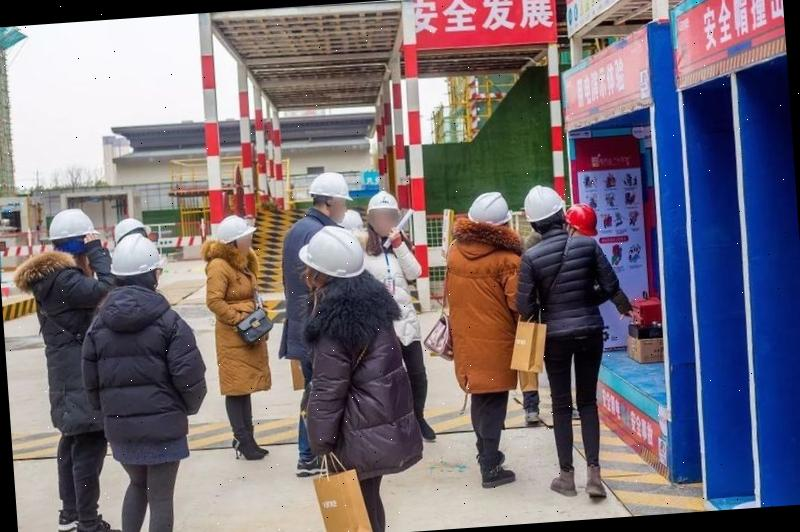helmet: (296, 221, 370, 284), (468, 190, 514, 228), (48, 208, 97, 242), (520, 185, 562, 223), (212, 213, 258, 244), (362, 189, 401, 222), (309, 172, 351, 201), (110, 216, 153, 243), (565, 203, 600, 236)
no_wear: (304, 288, 406, 428), (88, 300, 183, 424), (444, 236, 524, 348), (526, 235, 611, 337), (35, 278, 104, 402), (202, 253, 264, 333), (114, 234, 156, 278)
